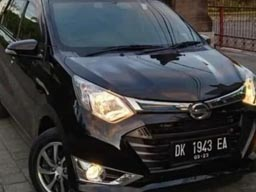plat: (173, 136, 227, 160)
